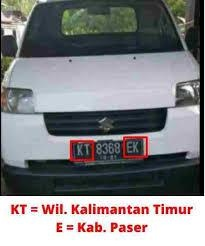plate: (74, 140, 142, 159)
